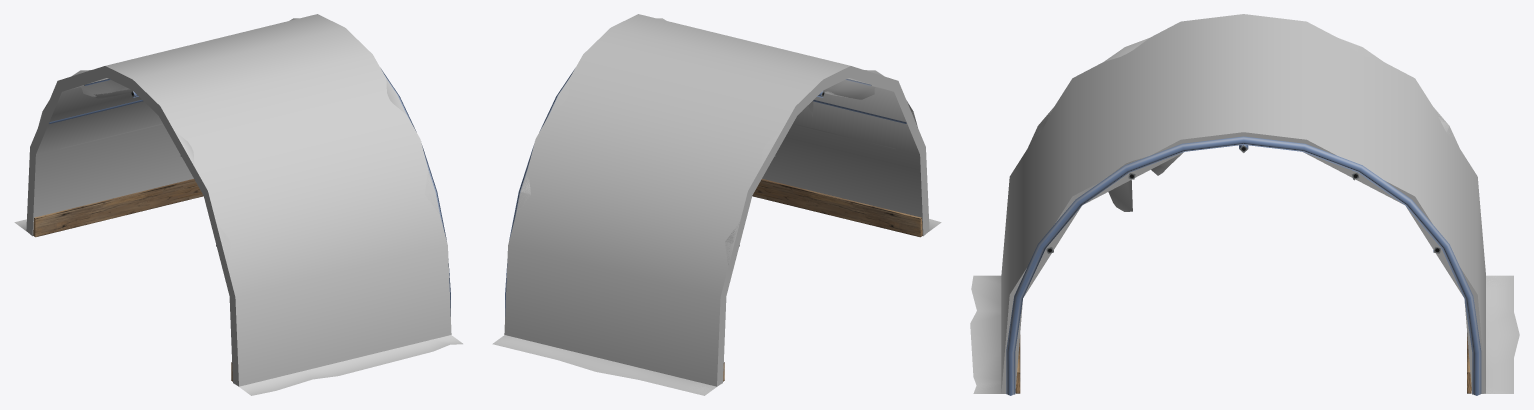
Rendered from greenHouse_mid_B.FBX.
The picture shows the model from 3 angles, left to right: view 1: azimuth 30°, elevation 25°; view 2: azimuth 150°, elevation 25°; view 3: azimuth 270°, elevation 25°; orthographic projection. The views are drawn at different scales.
Parts seen in each view (by area): view 1: greenHouse_mid_B_COL, greenHouse_mid_B, greenHouse_mid_B_top; view 2: greenHouse_mid_B_COL, greenHouse_mid_B, greenHouse_mid_B_top; view 3: greenHouse_mid_B_COL, greenHouse_mid_B, greenHouse_mid_B_top.
Boxes of the visible parts, x1,y1,x2,y2 form: greenHouse_mid_B_COL: (26,14,451,386); greenHouse_mid_B: (14,69,462,395); greenHouse_mid_B_top: (42,18,435,243); greenHouse_mid_B_COL: (504,14,929,386); greenHouse_mid_B: (492,69,941,395); greenHouse_mid_B_top: (520,18,913,243); greenHouse_mid_B_COL: (1001,14,1485,394); greenHouse_mid_B: (970,126,1519,395); greenHouse_mid_B_top: (1038,38,1449,211).
Bounding box in the file's own units: 305 × 311 × 590.
